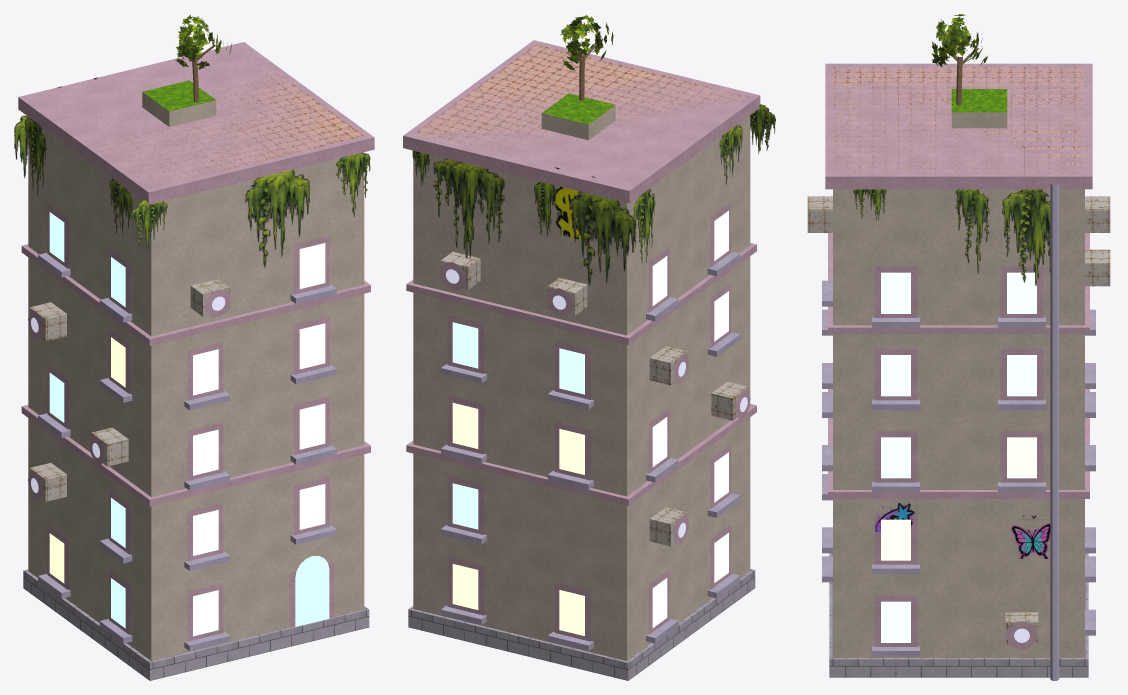
Rendered from BUILDING_04.glb.
The picture shows the model from 3 angles, left to right: view 1: azimuth 30°, elevation 25°; view 2: azimuth 150°, elevation 25°; view 3: azimuth 270°, elevation 25°; orthographic projection. The views are drawn at different scales.
Visible parts, largest first — view 1: B_AS_04_Skin, B_AS_04_Moss, BUILDING_04_Trees; view 2: B_AS_04_Skin, B_AS_04_Moss, BUILDING_04_Trees; view 3: B_AS_04_Skin, B_AS_04_Moss, BUILDING_04_Trees.
Boxes of the visible parts, bbox=[...] form: B_AS_04_Skin: bbox=[18, 42, 374, 680]; B_AS_04_Moss: bbox=[14, 115, 370, 267]; BUILDING_04_Trees: bbox=[175, 14, 231, 102]; B_AS_04_Skin: bbox=[403, 40, 760, 680]; B_AS_04_Moss: bbox=[412, 104, 775, 285]; BUILDING_04_Trees: bbox=[560, 15, 613, 100]; B_AS_04_Skin: bbox=[807, 63, 1110, 680]; B_AS_04_Moss: bbox=[853, 189, 1050, 285]; BUILDING_04_Trees: bbox=[932, 14, 987, 105].
Size of the model in its own units: 12.28 by 26.59 by 12.28.
14 materials, 9 textured.
